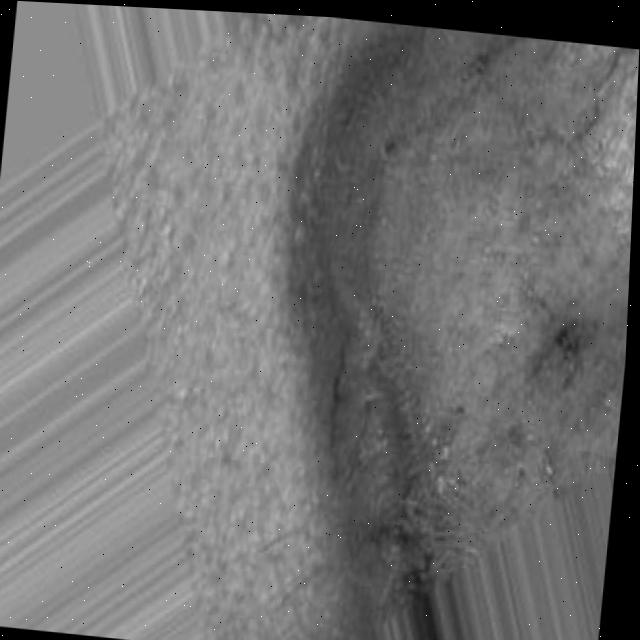Rosacea: (318, 18, 640, 449)
